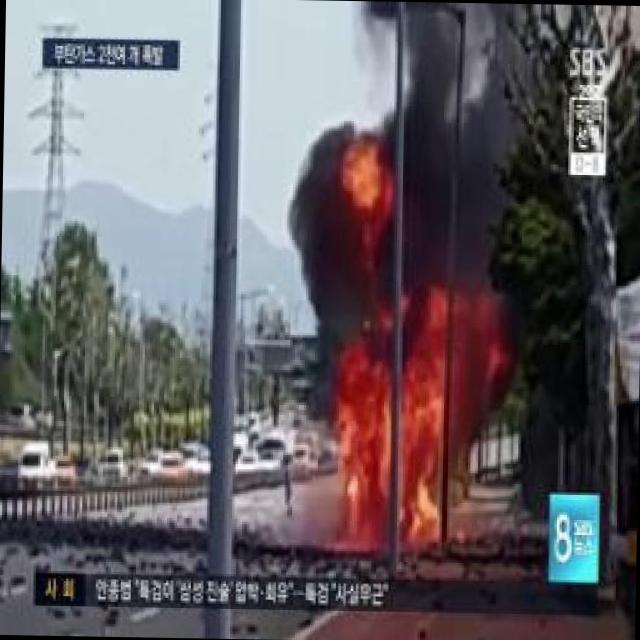Fire: (348, 378, 445, 544), (336, 132, 397, 238)
Smoke: (391, 1, 502, 293), (284, 114, 354, 420)
